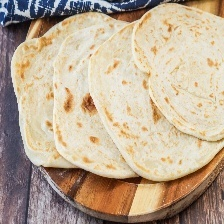roti: (6, 1, 224, 188)
